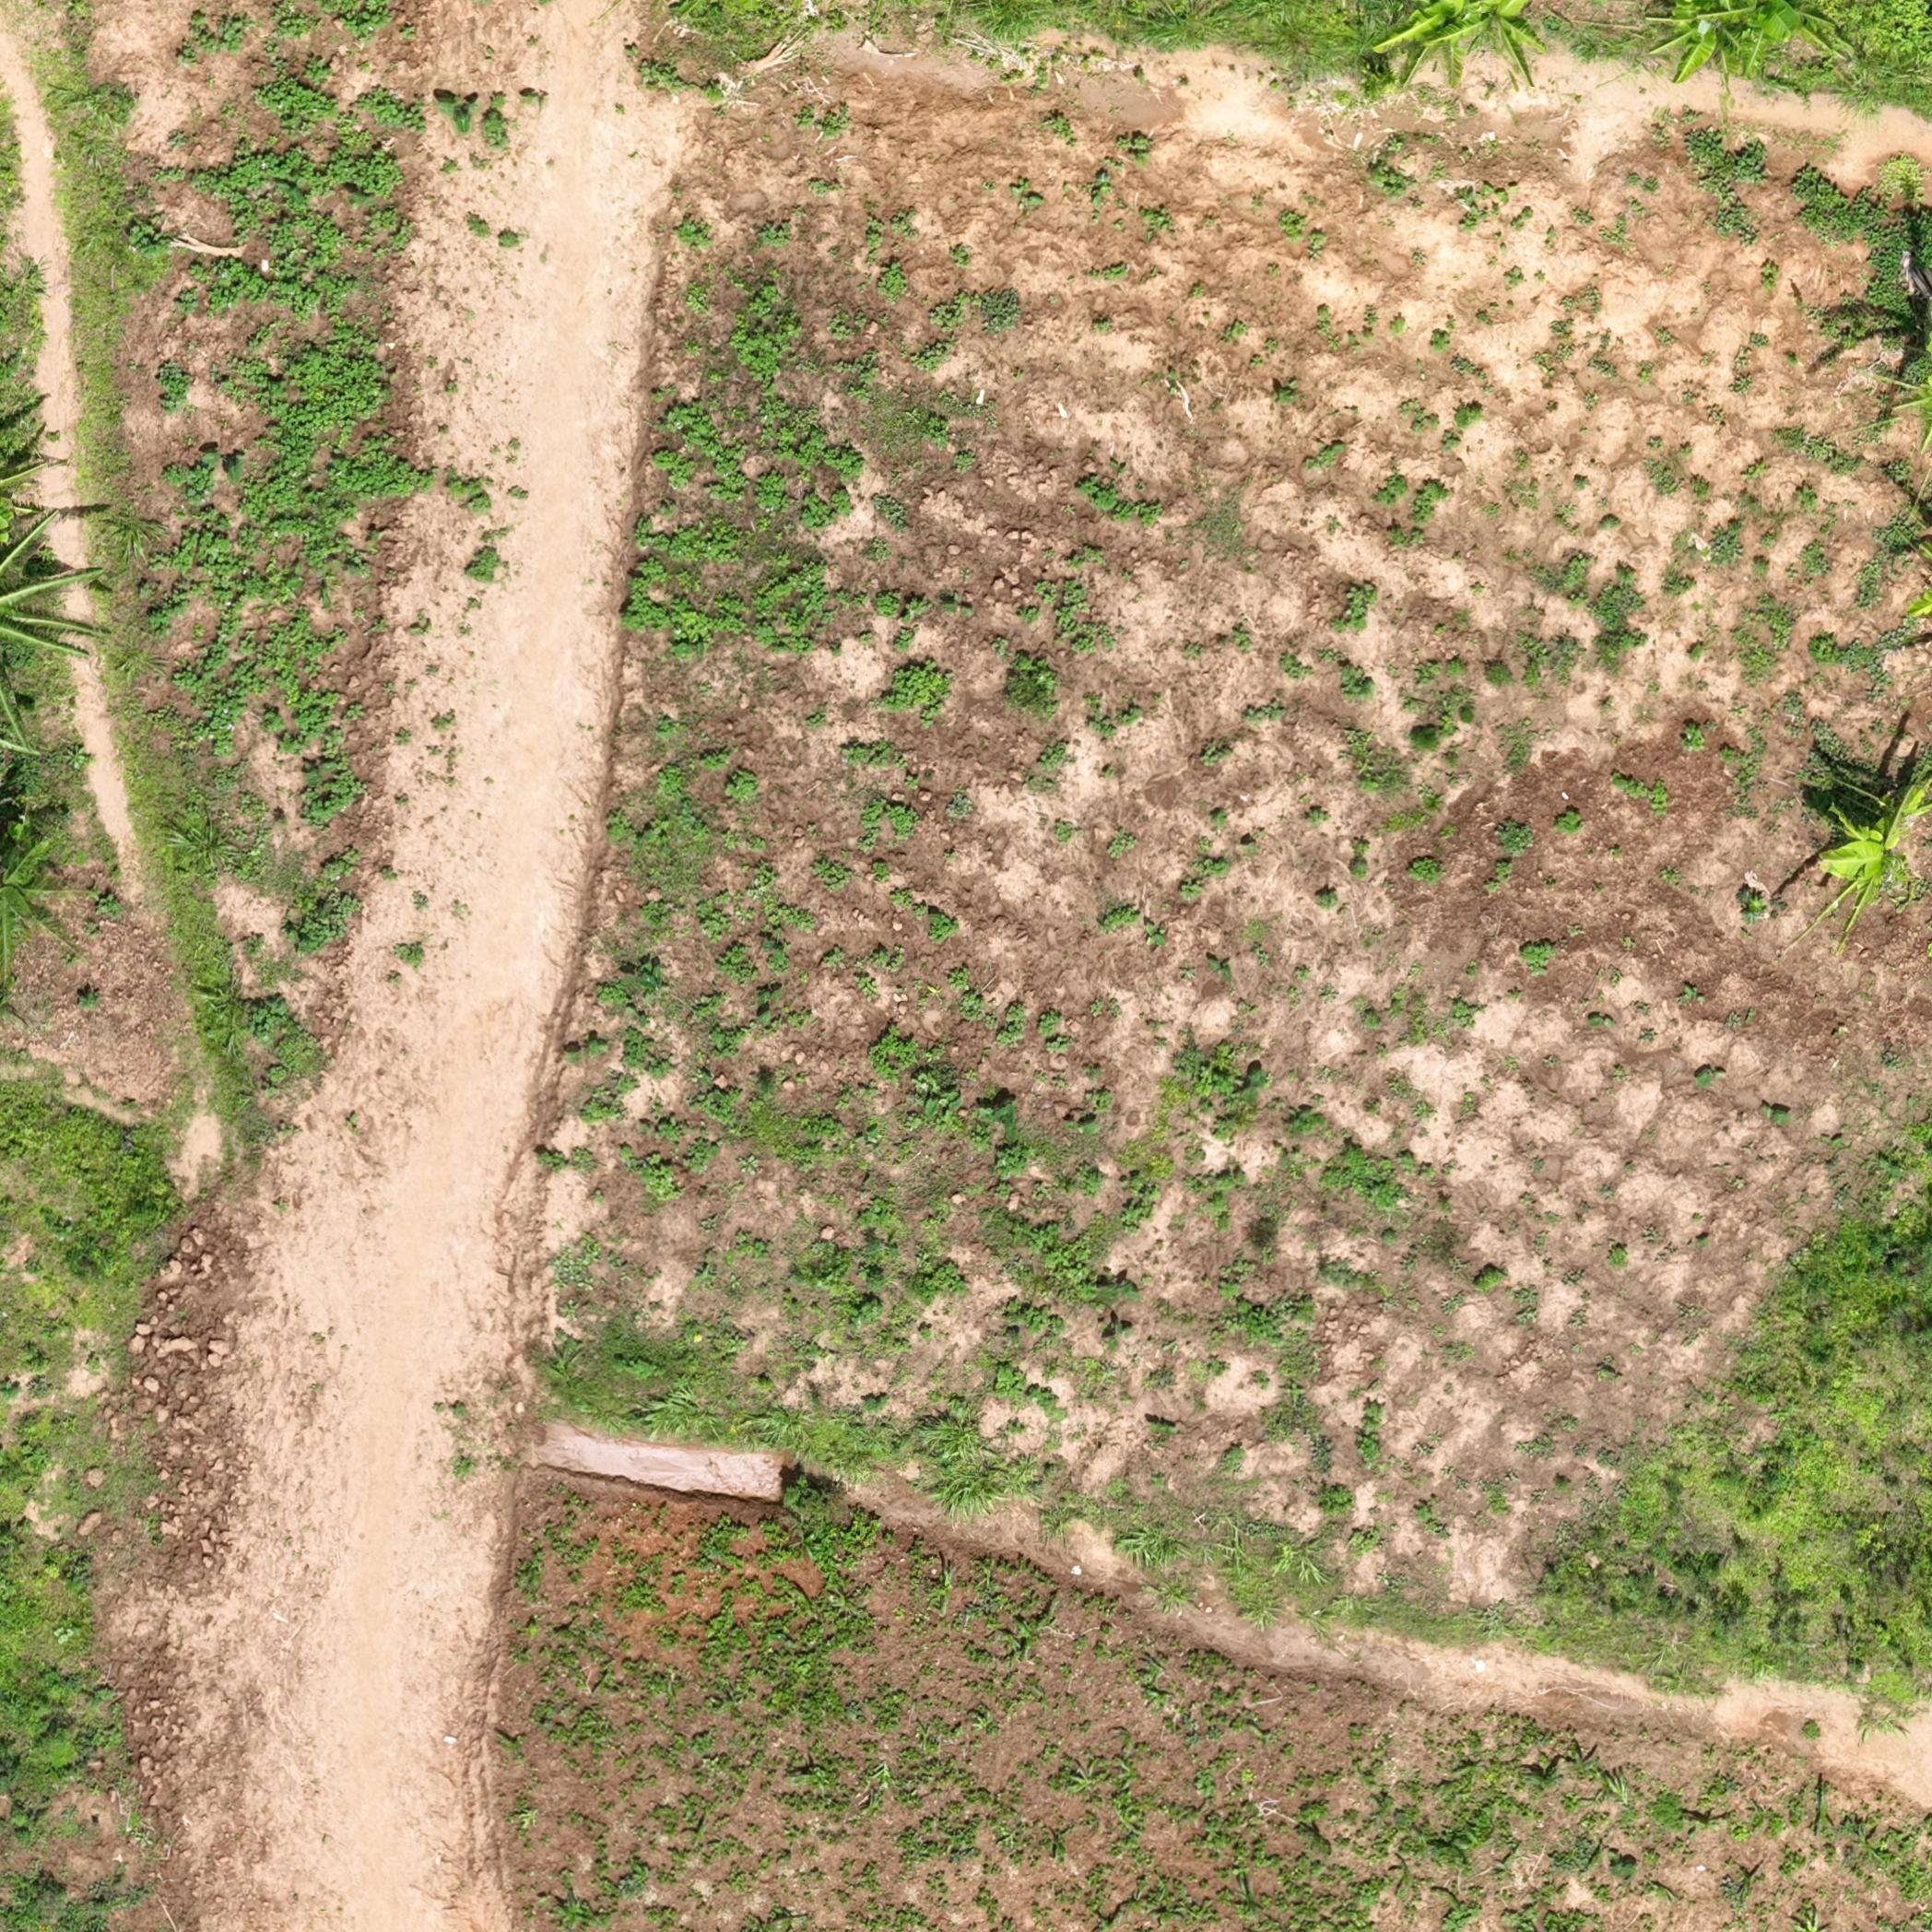Banana: (1822, 800, 1921, 936), (1668, 5, 1810, 78), (1373, 11, 1534, 62)
